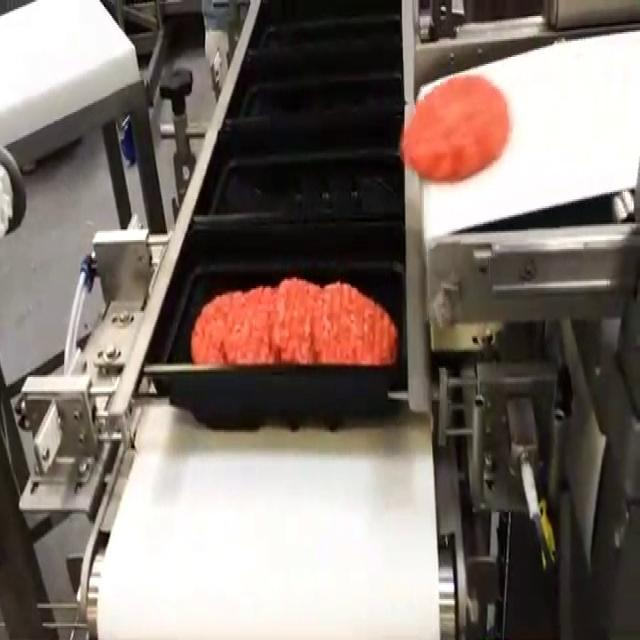4-hamburguer: (191, 277, 397, 364)
